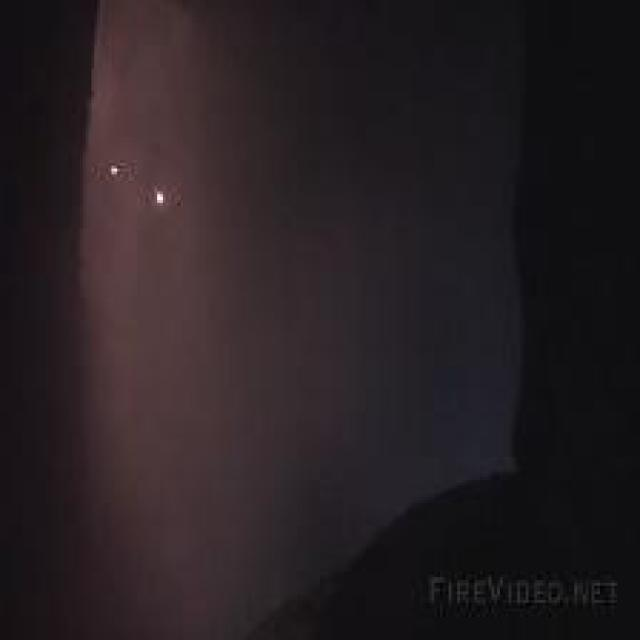other: (146, 180, 179, 215), (98, 154, 123, 179)
